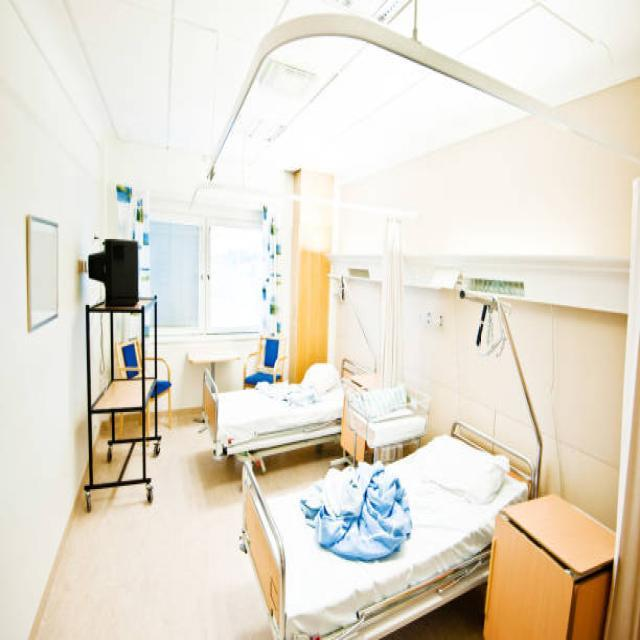bed: (238, 418, 538, 638), (200, 360, 348, 472)
sofa: (334, 357, 429, 467)
